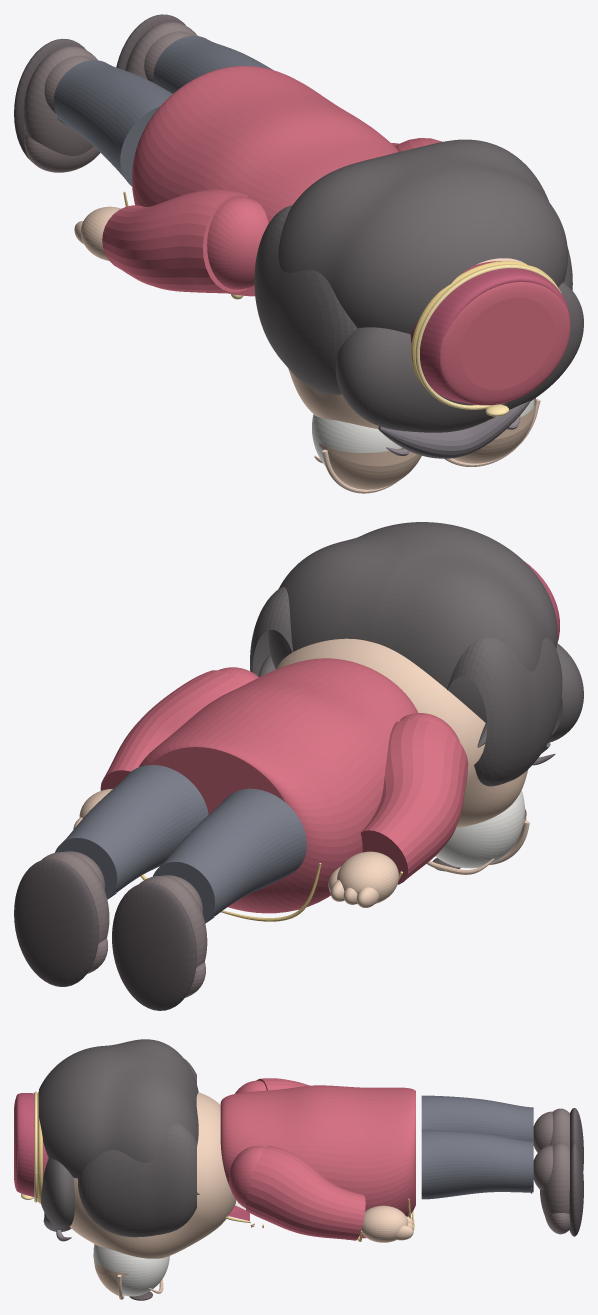
The model's file is BellhopSource.glb.
3 views of the same model, one above another, from view 1: azimuth 30°, elevation 25°; view 2: azimuth 150°, elevation 25°; view 3: azimuth 270°, elevation 25° (orthographic). The views are drawn at different scales.
Parts seen in each view (by area): view 1: Hair_Bob_Back, Bellhop_Doublebreasted_Jacket, Pillbox_Hat_Top, Swooping_Fringe, Bob_Side_L, Sleeve_L, Trouser_L, Pillbox_Hat, Cloth_Shoulder_L, Shoe_L, Trouser_R, Fringe_Wave_Main (+13 smaller); view 2: Bellhop_Doublebreasted_Jacket, Hair_Bob_Back, Sleeve_L, Trouser_L, Trouser_R, Bob_Side_L, Rubber_Sole_L, Rubber_Sole_R, Female_Face_Sculpt, Sleeve_R, White_Eye_L, Palm_L (+4 smaller); view 3: Bellhop_Doublebreasted_Jacket, Hair_Bob_Back, Bob_Side_R, Sleeve_R, Trouser_R, Female_Face_Sculpt, Trouser_L, White_Eye_R, Pillbox_Hat, Swooping_Fringe, Shoe_R, Palm_R (+11 smaller).
Part boxes in pixels (bbox=[...]): Hair_Bob_Back: bbox=[278, 139, 567, 334]; Bellhop_Doublebreasted_Jacket: bbox=[132, 66, 398, 296]; Pillbox_Hat_Top: bbox=[438, 282, 570, 403]; Swooping_Fringe: bbox=[335, 282, 583, 432]; Bob_Side_L: bbox=[254, 205, 357, 395]; Sleeve_L: bbox=[102, 189, 248, 293]; Trouser_L: bbox=[53, 60, 172, 186]; Pillbox_Hat: bbox=[410, 261, 570, 405]; Cloth_Shoulder_L: bbox=[207, 197, 268, 289]; Shoe_L: bbox=[23, 46, 97, 155]; Trouser_R: bbox=[153, 35, 273, 93]; Fringe_Wave_Main: bbox=[378, 401, 530, 458]; Bellhop_Doublebreasted_Jacket: bbox=[139, 658, 418, 913]; Hair_Bob_Back: bbox=[268, 522, 557, 722]; Sleeve_L: bbox=[360, 719, 468, 884]; Trouser_L: bbox=[153, 788, 306, 922]; Trouser_R: bbox=[55, 765, 208, 898]; Bob_Side_L: bbox=[447, 637, 562, 786]; Rubber_Sole_L: bbox=[112, 882, 196, 1010]; Rubber_Sole_R: bbox=[14, 858, 98, 986]; Female_Face_Sculpt: bbox=[276, 638, 528, 827]; Sleeve_R: bbox=[100, 670, 243, 790]; White_Eye_L: bbox=[435, 790, 524, 868]; Palm_L: bbox=[337, 851, 398, 904]; Bellhop_Doublebreasted_Jacket: bbox=[220, 1085, 415, 1238]; Hair_Bob_Back: bbox=[39, 1039, 198, 1178]; Bob_Side_R: bbox=[78, 1123, 196, 1237]; Sleeve_R: bbox=[245, 1145, 365, 1240]; Trouser_R: bbox=[421, 1129, 533, 1199]; Female_Face_Sculpt: bbox=[69, 1092, 235, 1258]; Trouser_L: bbox=[421, 1095, 533, 1141]; White_Eye_R: bbox=[93, 1244, 169, 1296]; Pillbox_Hat: bbox=[16, 1093, 48, 1197]; Swooping_Fringe: bbox=[41, 1158, 75, 1228]; Shoe_R: bbox=[539, 1142, 569, 1216]; Palm_R: bbox=[361, 1205, 408, 1242].
Bounding box in the file's own units: 1.63 × 1.5 × 3.51.
